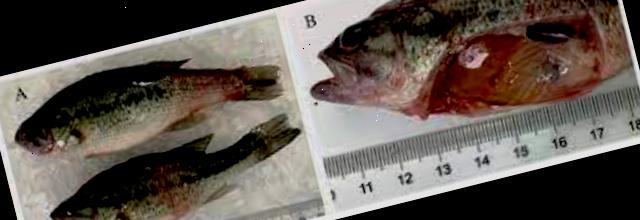Aeromonas Septicemia: (312, 0, 628, 119), (313, 0, 630, 118), (51, 114, 301, 220), (15, 59, 282, 157), (15, 60, 283, 157)
